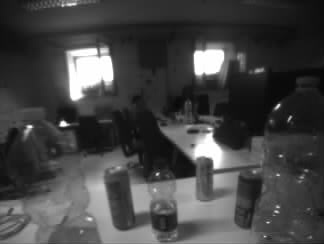Bottle: (263, 78, 324, 244), (19, 113, 94, 244), (150, 160, 179, 240), (183, 99, 192, 123)
Tin can: (106, 168, 135, 229), (235, 171, 258, 227), (196, 157, 213, 199)
